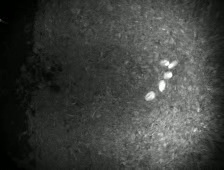corn: (156, 78, 169, 94), (143, 90, 157, 102), (167, 59, 180, 71), (157, 57, 171, 68), (162, 70, 174, 81)
